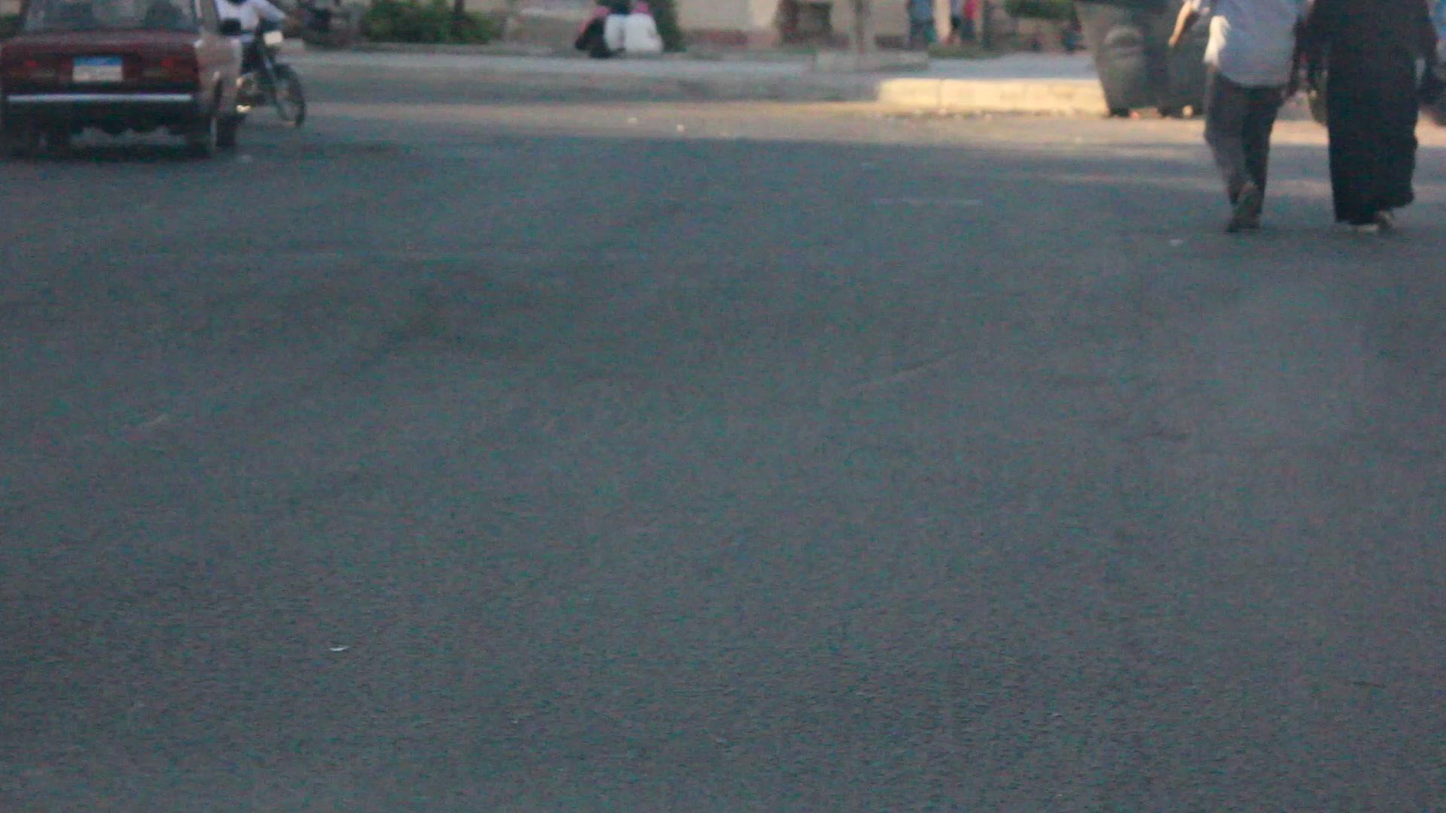Bump: (11, 247, 1446, 346)
